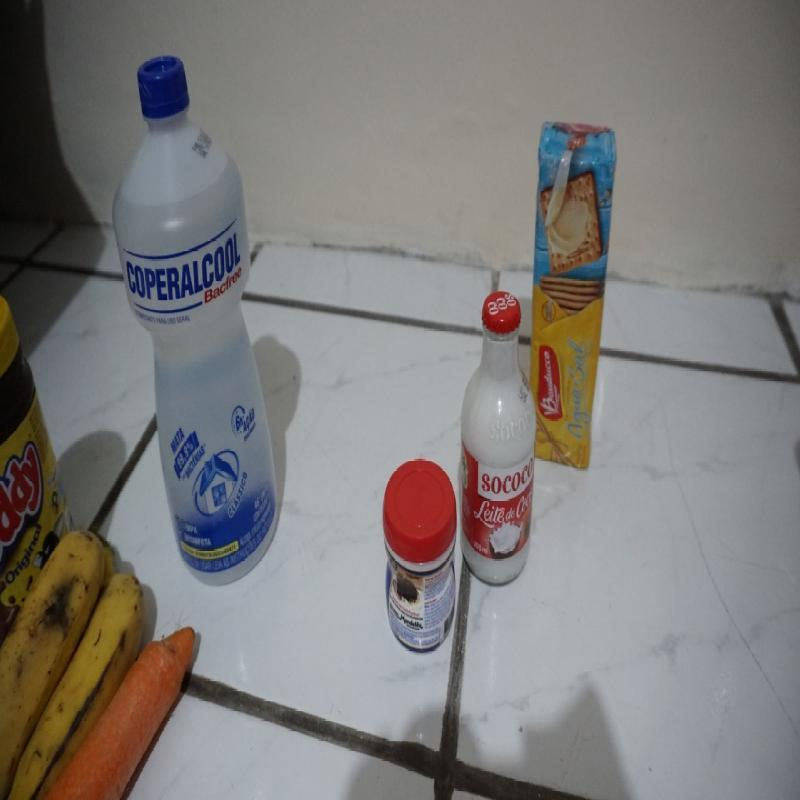Alcohol Bottle: (112, 54, 288, 558)
Banana: (3, 560, 72, 788)
Carrot: (90, 632, 214, 800)
Chocolate Powder: (2, 296, 66, 557)
Coconut Milk: (464, 288, 535, 582)
Cracker: (535, 116, 616, 472)
Yeast: (382, 454, 457, 650)
